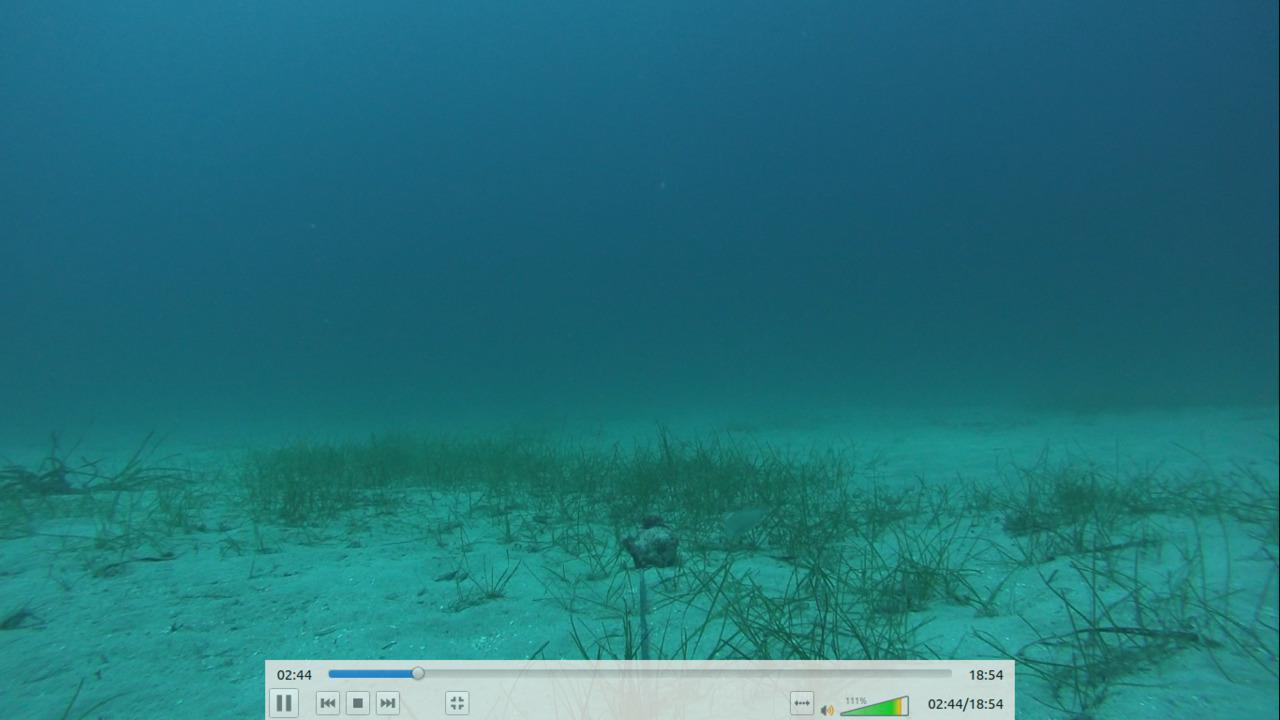raor: (708, 501, 771, 545)
